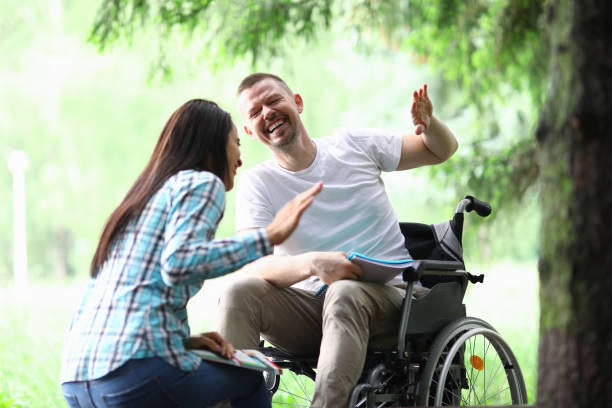without mask: (236, 61, 308, 149), (171, 103, 243, 191)
